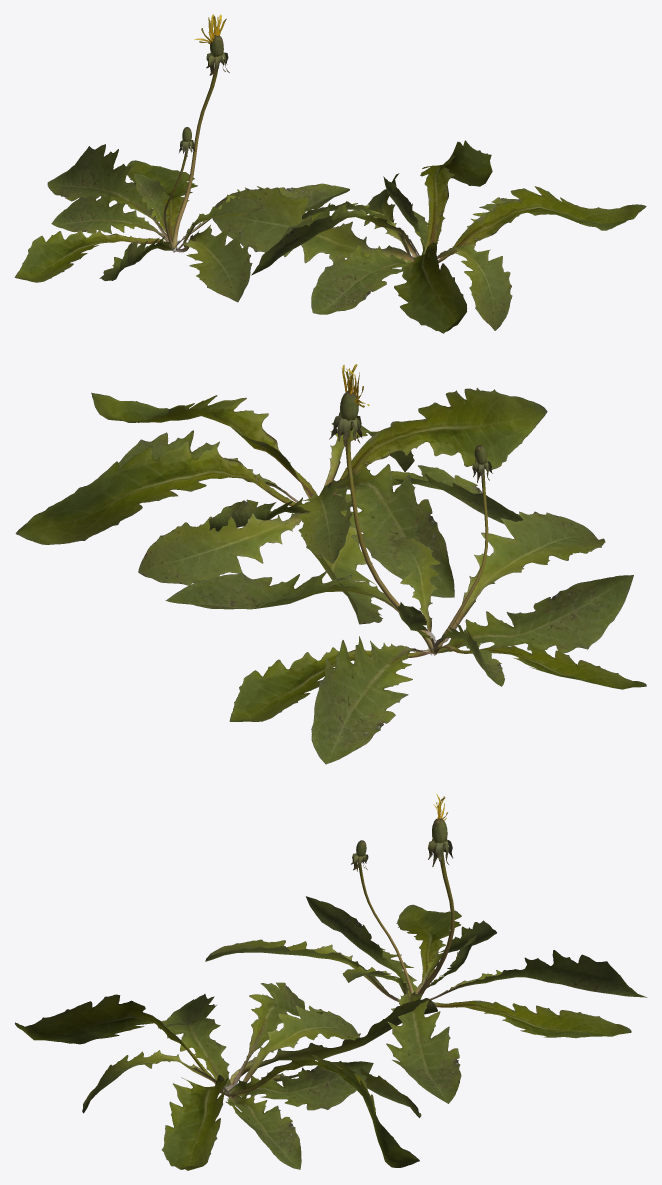
Rendered from dandelion_01.glb.
3 views of the same model, one above another, from view 1: azimuth 30°, elevation 25°; view 2: azimuth 150°, elevation 25°; view 3: azimuth 270°, elevation 25° (orthographic). The views are drawn at different scales.
Parts seen in each view (by area): view 1: dandelion_01_c_LOD0; view 2: dandelion_01_c_LOD0; view 3: dandelion_01_c_LOD0.
Part boxes in pixels (x1,y1,x2,y2): dandelion_01_c_LOD0: [14, 14, 646, 333]; dandelion_01_c_LOD0: [15, 364, 646, 764]; dandelion_01_c_LOD0: [15, 794, 647, 1170].
Size of the model in its own units: 0.2558 by 0.106 by 0.2386.
Materials: 1 (1 with a texture image).
